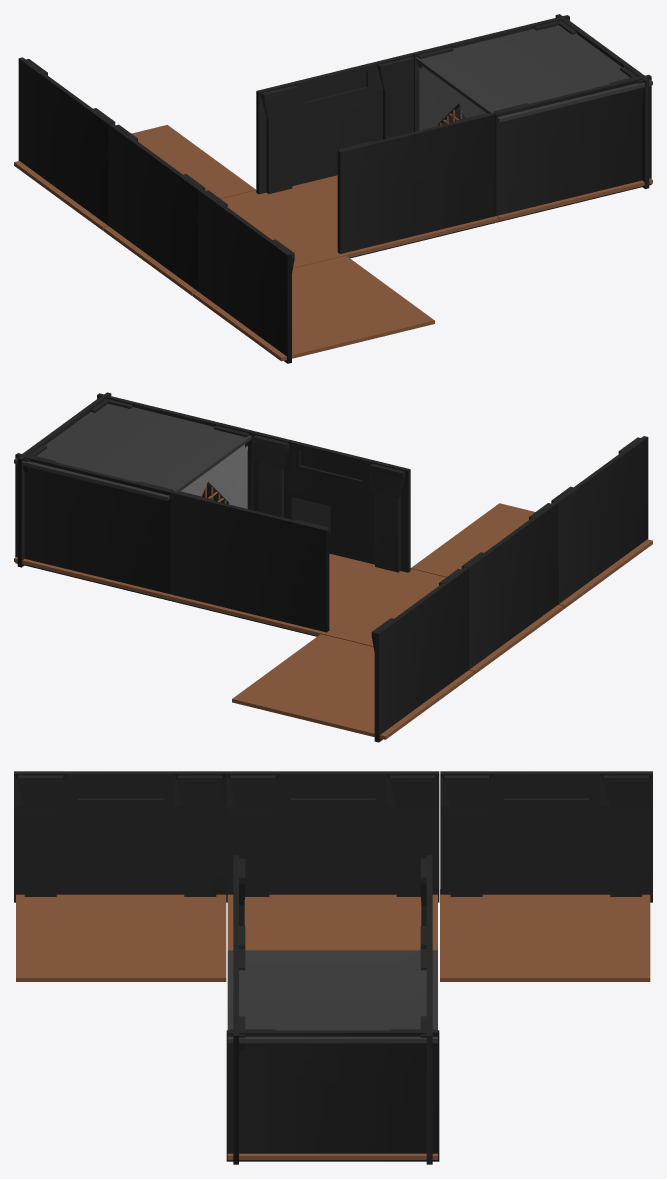
File: DungeonJailRoom.fbx
3 views of the same model, one above another, from view 1: azimuth 30°, elevation 25°; view 2: azimuth 150°, elevation 25°; view 3: azimuth 270°, elevation 25° (orthographic). The views are drawn at different scales.
Parts seen in each view (by area): view 1: Wall, Floor, Ceiling; view 2: Wall, Floor, Ceiling; view 3: Wall, Floor, Ceiling.
Part boxes in pixels (x1,y1,x2,y2): Wall: (18, 14, 651, 363); Floor: (14, 125, 652, 361); Ceiling: (415, 21, 652, 122); Wall: (15, 392, 648, 742); Floor: (14, 503, 652, 739); Ceiling: (14, 399, 251, 500); Wall: (14, 771, 652, 1164); Floor: (16, 889, 650, 1159); Ceiling: (227, 950, 437, 1043).
Bounding box in the file's own units: 1963 × 447 × 1982.
